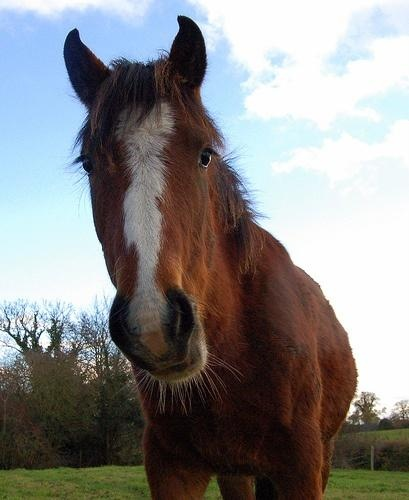horse: (60, 13, 361, 500)
